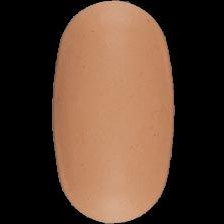64725-0797: (0, 0, 224, 224)
